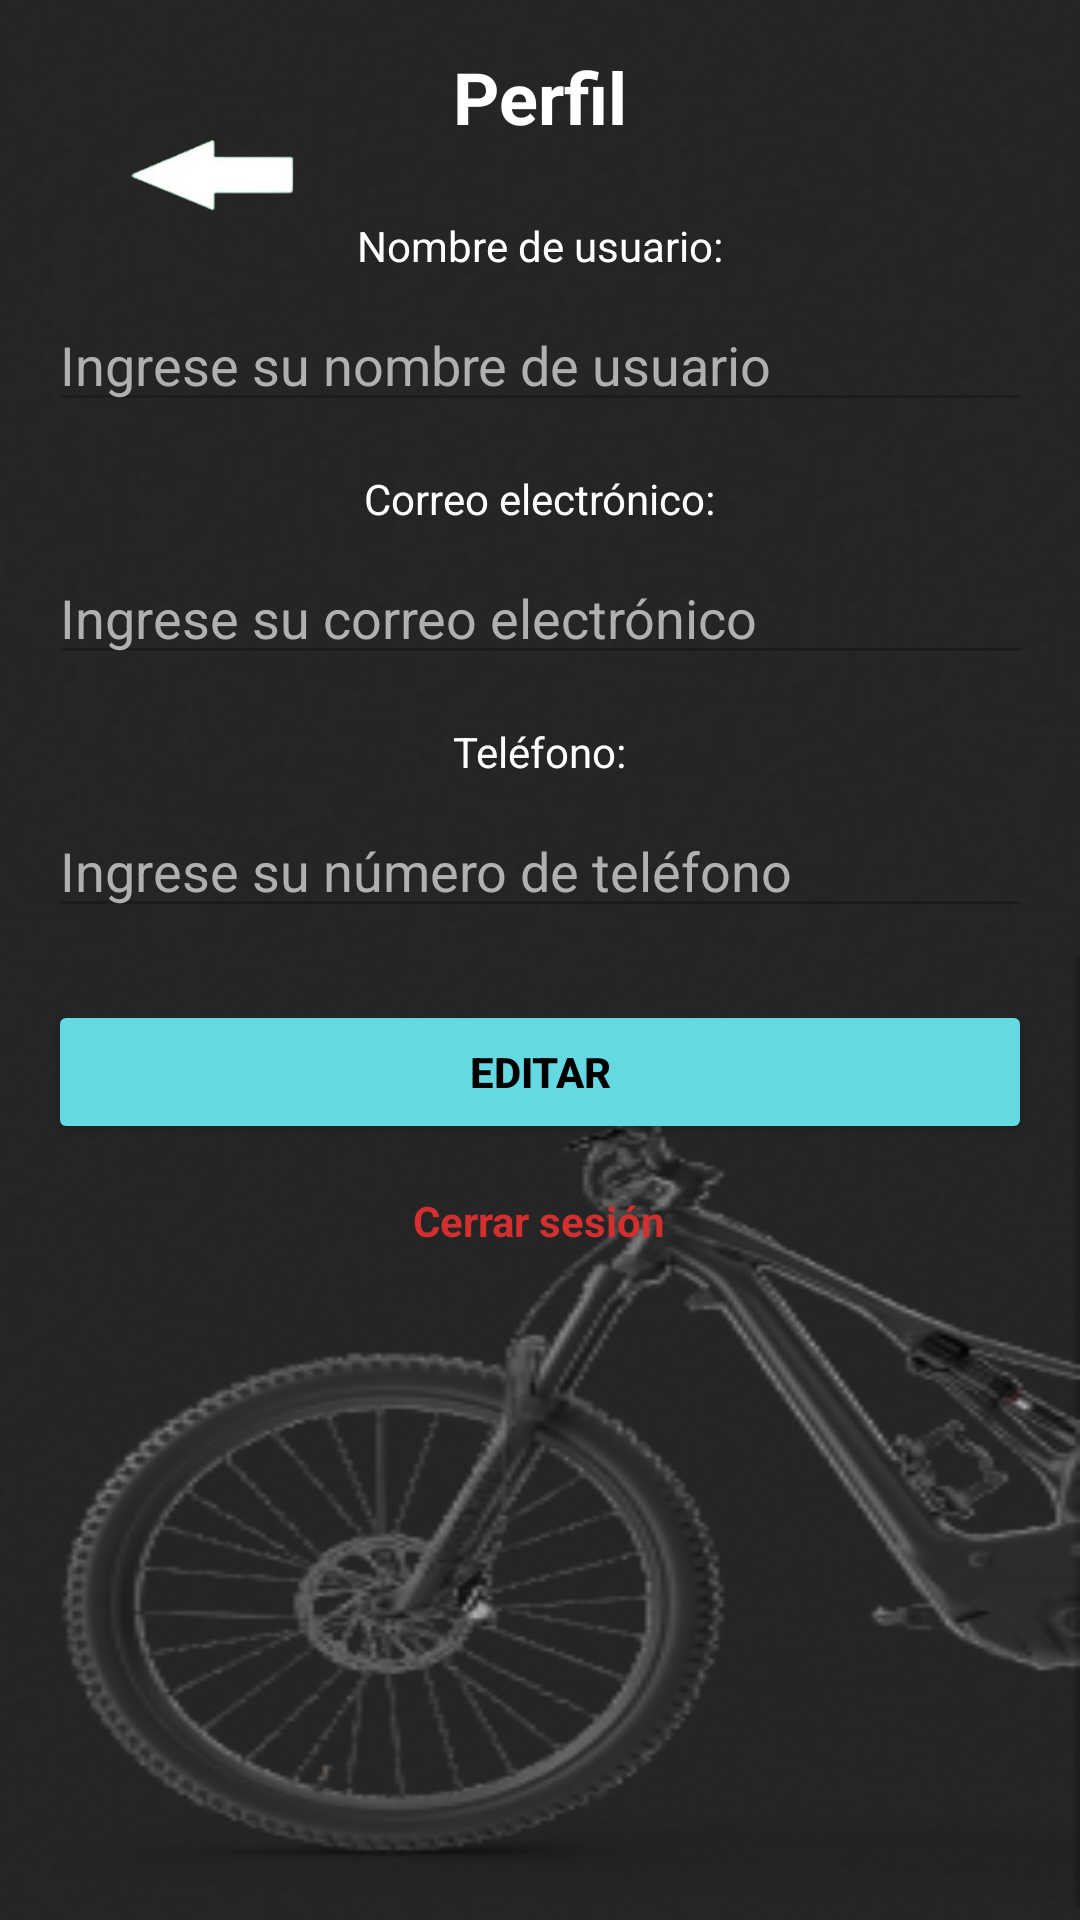

Where to tap for icons on this 1080×1920 app screen, as (x,y):
Volver: (212,175)
